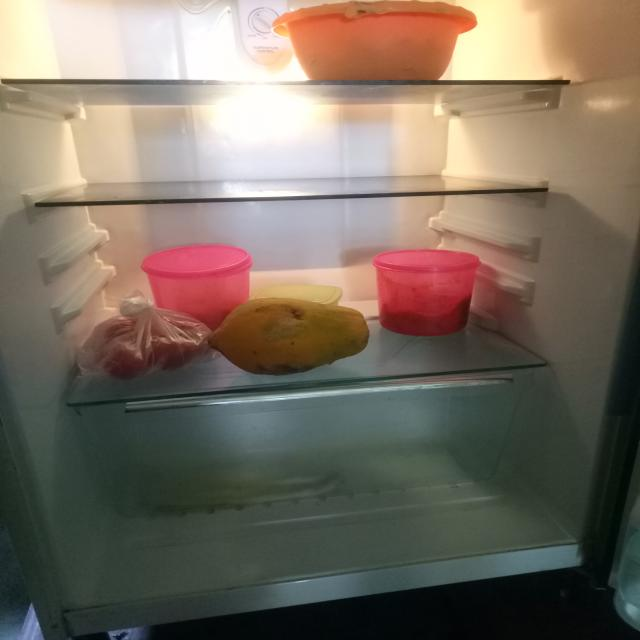Pepaya rippen: (203, 293, 368, 378)
